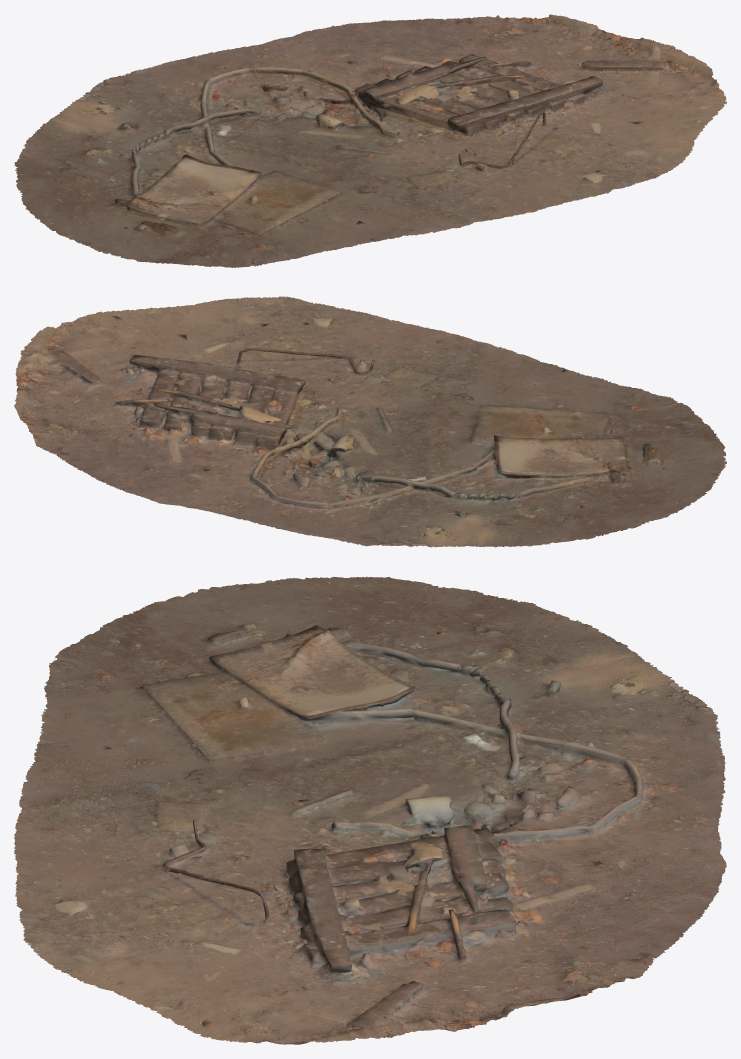
3 renders of one model, top to bottom at view 1: azimuth 30°, elevation 25°; view 2: azimuth 150°, elevation 25°; view 3: azimuth 270°, elevation 25°, orthographic. The views are drawn at different scales.
Parts seen in each view (by area): view 1: lp.002_1; view 2: lp.002_1; view 3: lp.002_1.
Part boxes in pixels (x1=…): lp.002_1: x1=14, y1=14, x2=726, y2=267; lp.002_1: x1=14, y1=296, x2=726, y2=547; lp.002_1: x1=14, y1=576, x2=726, y2=1044.
Size of the model in its own units: 3.87 by 0.1878 by 2.48.
1 material, 1 textured.
